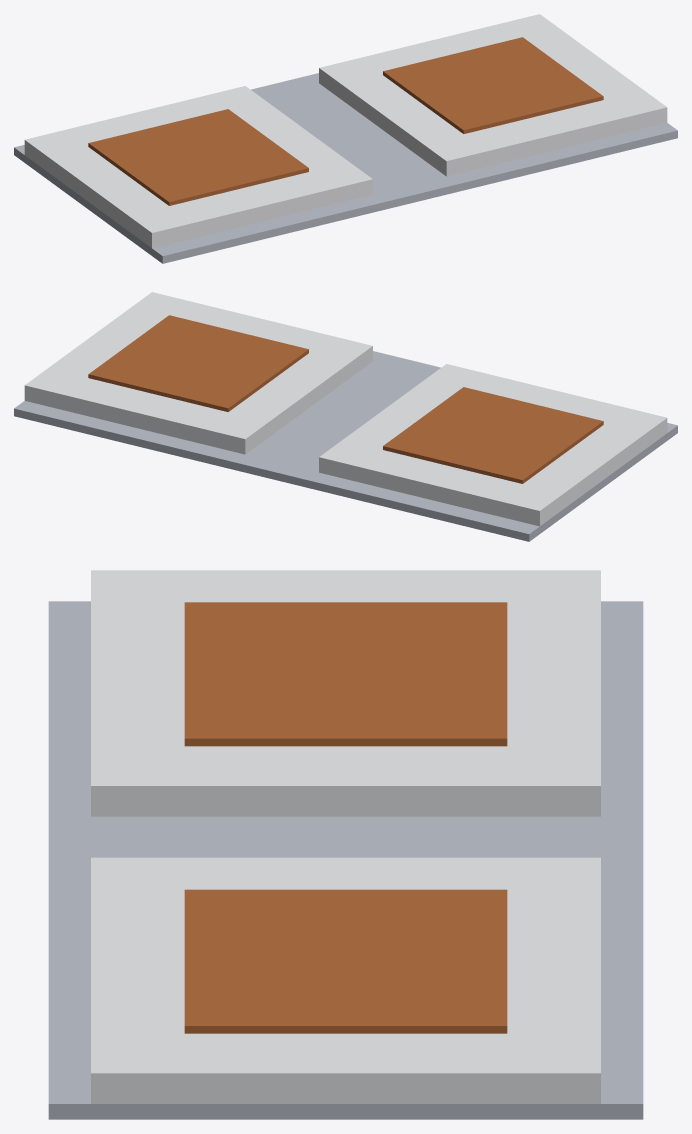
Rendered from xpatch.glb.
3 renders of one model, top to bottom at view 1: azimuth 30°, elevation 25°; view 2: azimuth 150°, elevation 25°; view 3: azimuth 270°, elevation 25°, orthographic. The views are drawn at different scales.
Parts seen in each view (by area): view 1: xpatch, xpatch_mount; view 2: xpatch, xpatch_mount; view 3: xpatch, xpatch_mount.
Part boxes in pixels (x1,y1,x2,y2): xpatch: [24, 14, 667, 248]; xpatch_mount: [14, 73, 677, 263]; xpatch: [24, 292, 667, 526]; xpatch_mount: [14, 351, 677, 541]; xpatch: [91, 570, 600, 1103]; xpatch_mount: [48, 601, 643, 1119].
Bounding box in the file's own units: 0.14 × 0.007 × 0.07.
